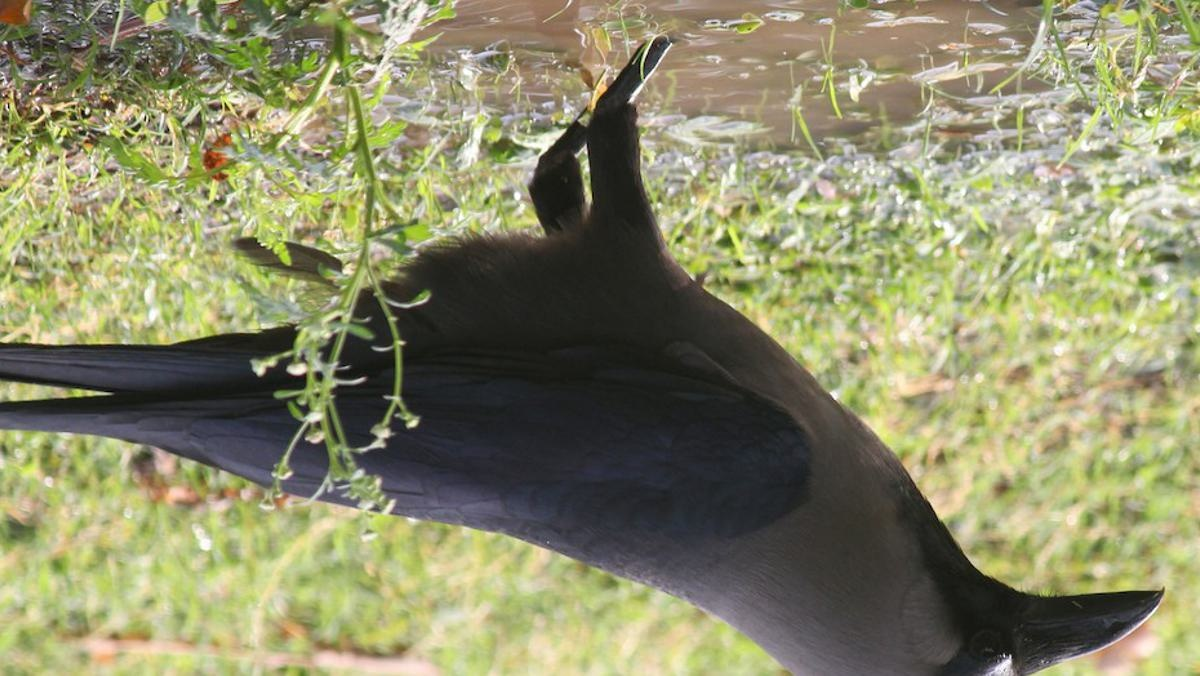crow: (1, 58, 1173, 675)
